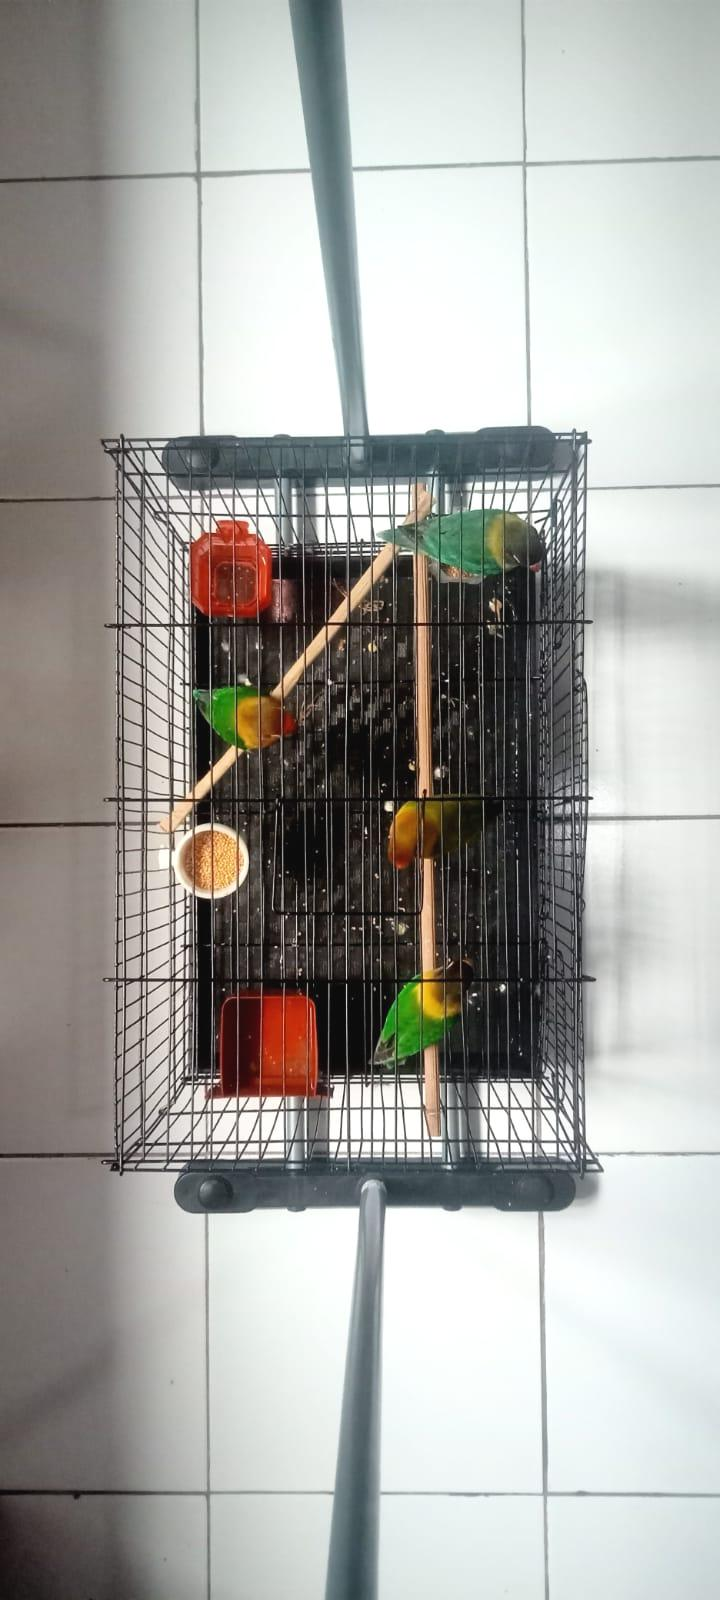LoveBird: (366, 955, 474, 1068), (377, 509, 543, 574), (387, 792, 505, 870), (193, 686, 299, 750)
